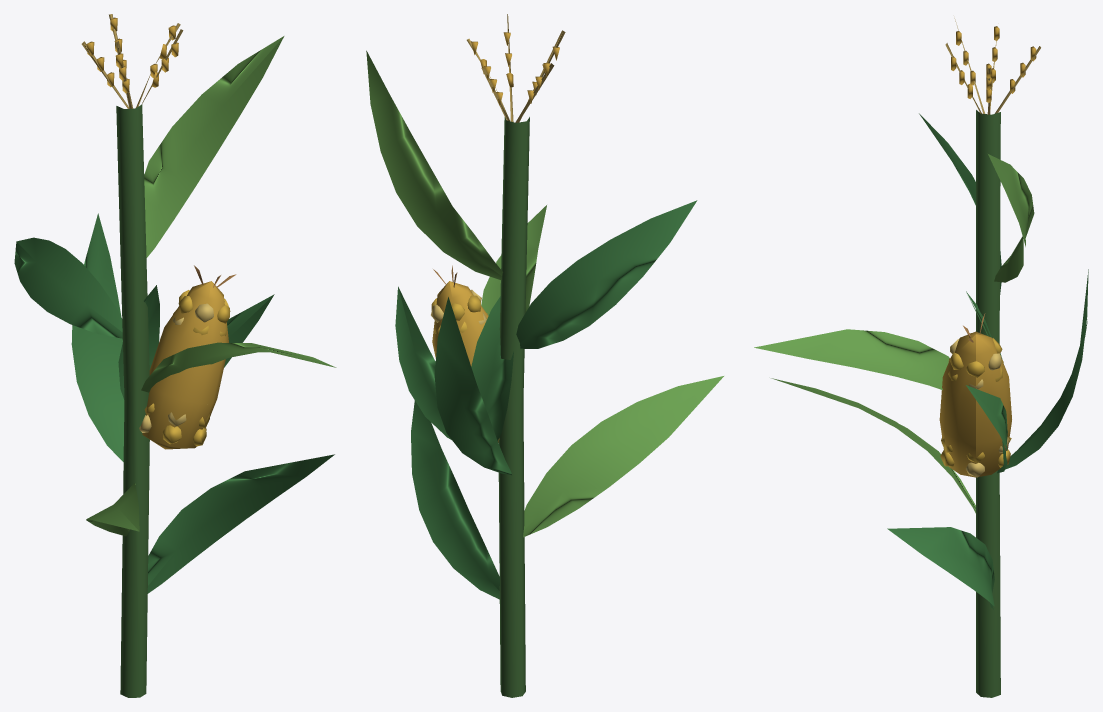
File: maiz_3_lod.glb
The picture shows the model from 3 angles, left to right: view 1: azimuth 30°, elevation 25°; view 2: azimuth 150°, elevation 25°; view 3: azimuth 270°, elevation 25°; orthographic projection. The views are drawn at different scales.
Visible parts, largest first — view 1: maiz_3_caña_0; view 2: maiz_3_caña_0; view 3: maiz_3_caña_0.
Part boxes in pixels (box(x1,y1,x2,y2)): maiz_3_caña_0: box(14, 14, 336, 697); maiz_3_caña_0: box(366, 14, 723, 697); maiz_3_caña_0: box(754, 18, 1088, 697).
Size of the model in its own units: 0.6572 by 1.39 by 0.6381.
